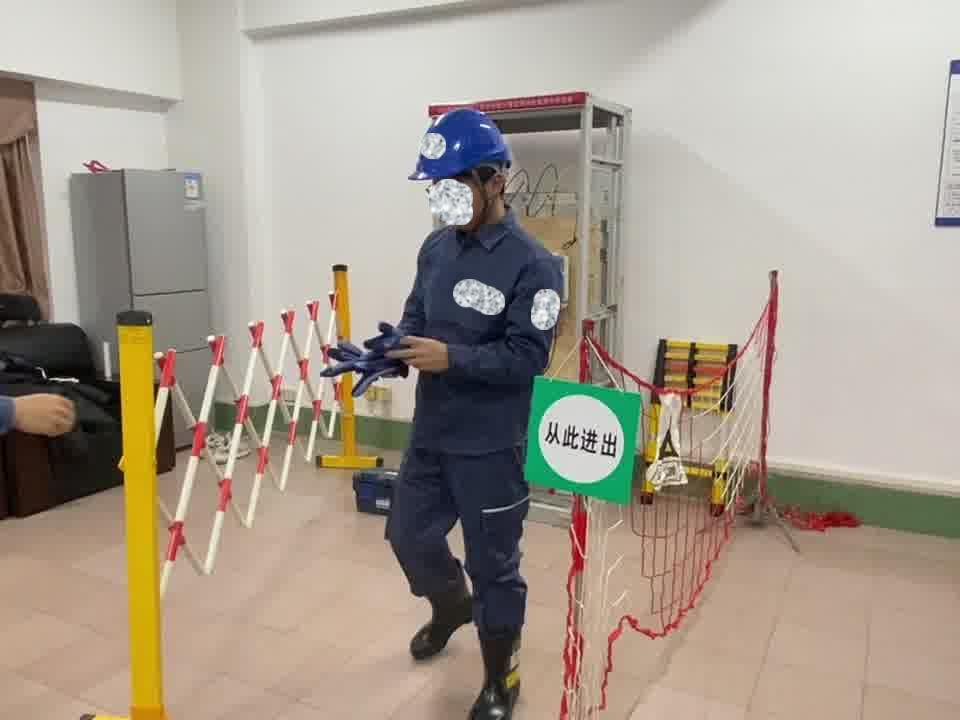halt: (417, 111, 519, 234)
inear: (472, 165, 508, 217)
